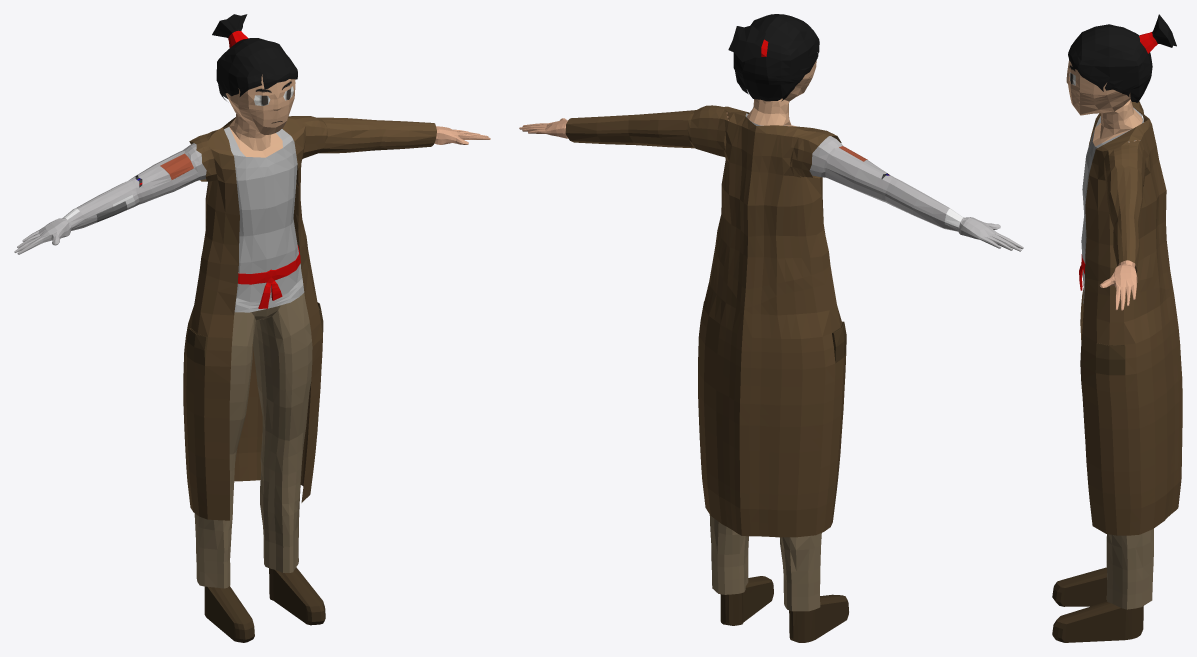
File: One_T.obj
The picture shows the model from 3 angles, left to right: view 1: azimuth 30°, elevation 25°; view 2: azimuth 150°, elevation 25°; view 3: azimuth 270°, elevation 25°; orthographic projection. The views are drawn at different scales.
Visible parts, largest first — view 1: Hair_Cube.004; view 2: Hair_Cube.004; view 3: Hair_Cube.004.
Boxes of the visible parts, x1,y1,x2,y2 form: Hair_Cube.004: [14, 14, 490, 642]; Hair_Cube.004: [519, 14, 1023, 642]; Hair_Cube.004: [1052, 14, 1182, 642].
Bounding box in the file's own units: 3.41 × 4.02 × 0.7872.
1 material, 1 textured.
